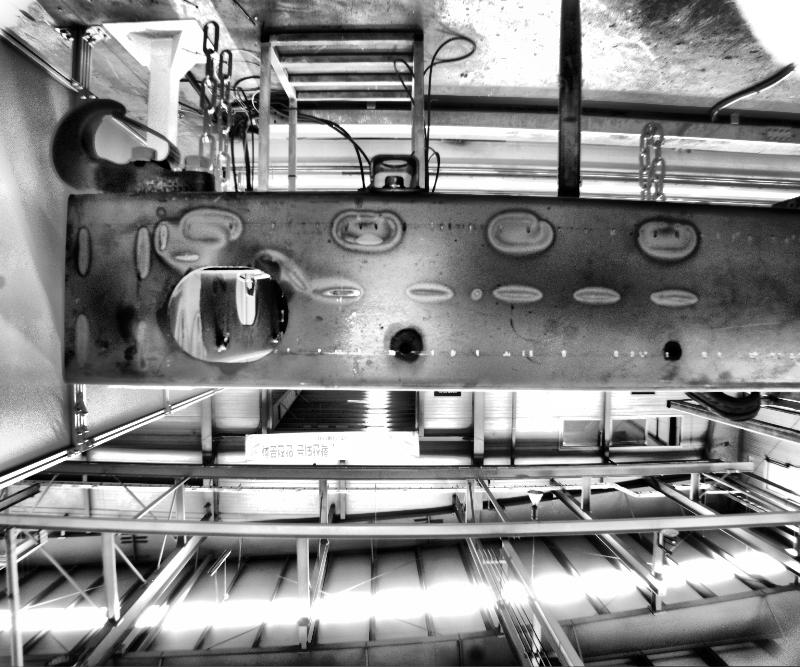bolt: (380, 171, 404, 188)
bracket: (349, 141, 435, 190)
hole: (155, 264, 287, 363), (395, 336, 413, 354), (665, 340, 681, 358)
